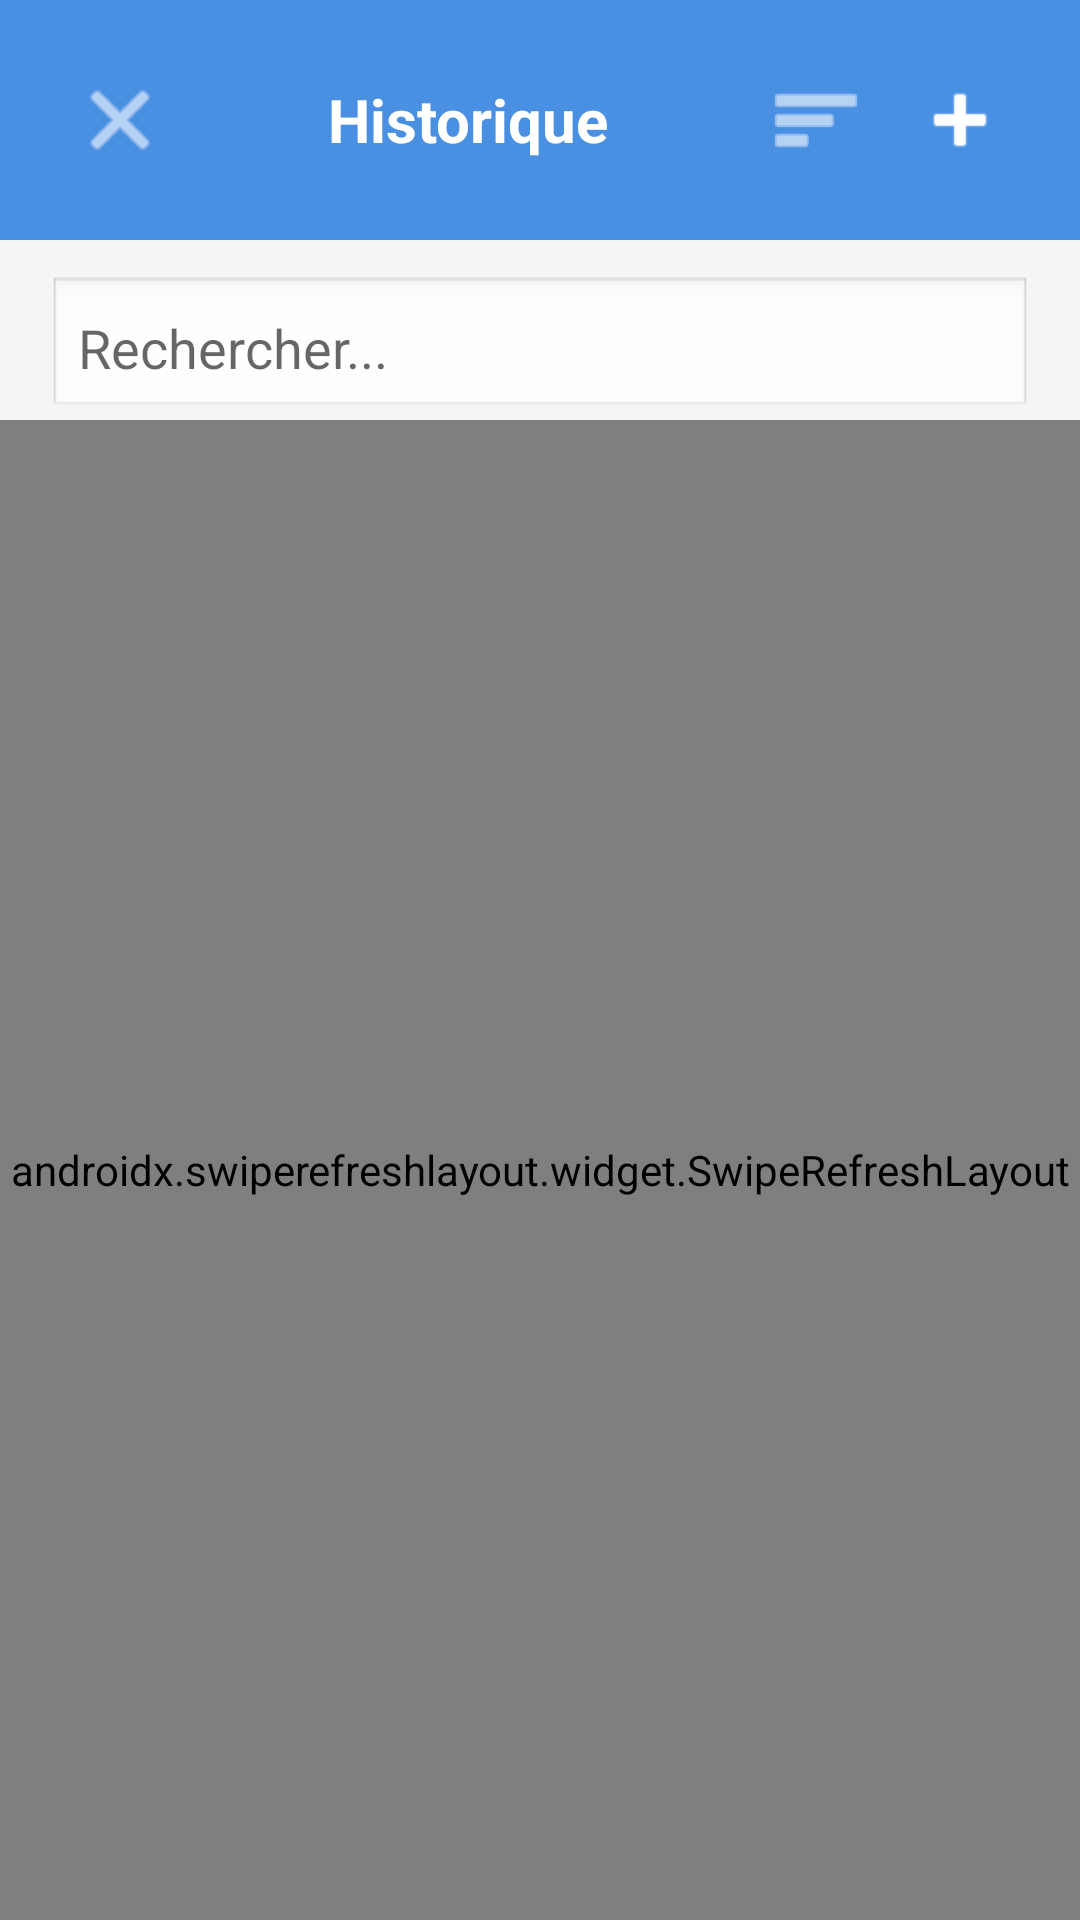

Where to tap for icons on this 1080px x 1920px app screen, as point (x, y):
Ajouter un repas passé: point (960, 120)
Retour: point (120, 120)
